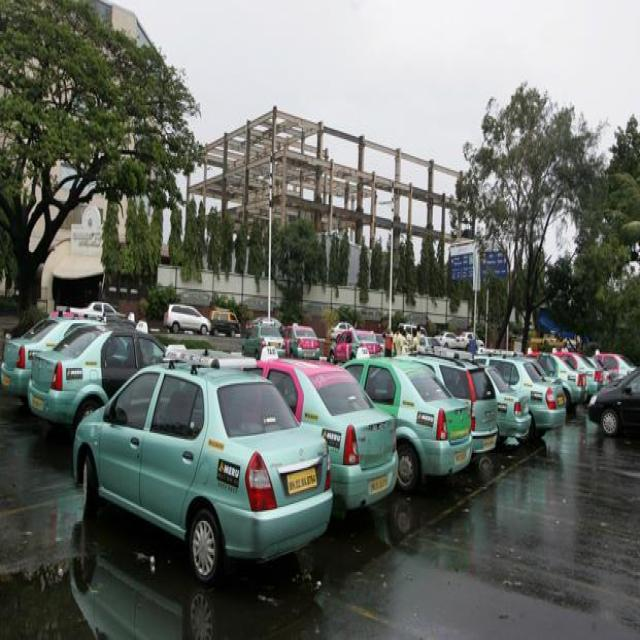plate: (285, 463, 320, 495), (366, 472, 390, 495), (30, 393, 44, 412)
